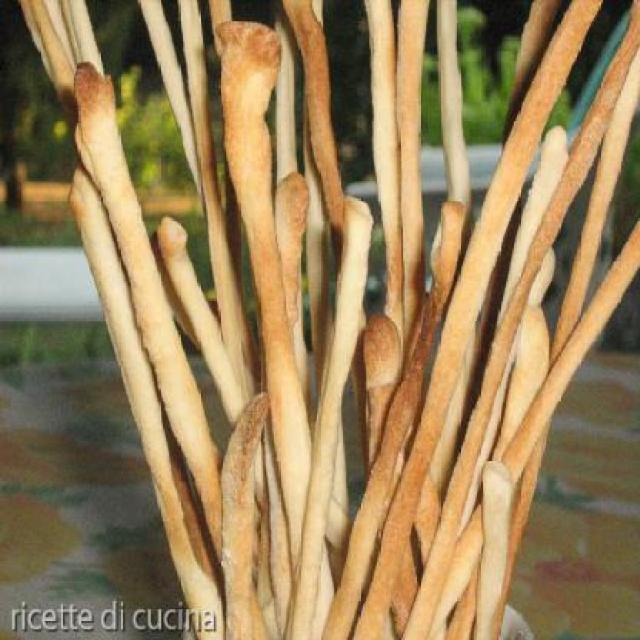Grissini: (22, 3, 630, 620)
